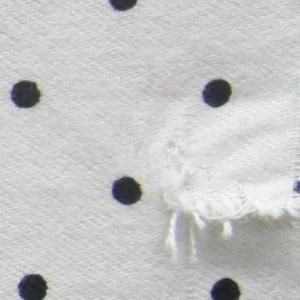Damage: (153, 112, 300, 268)
